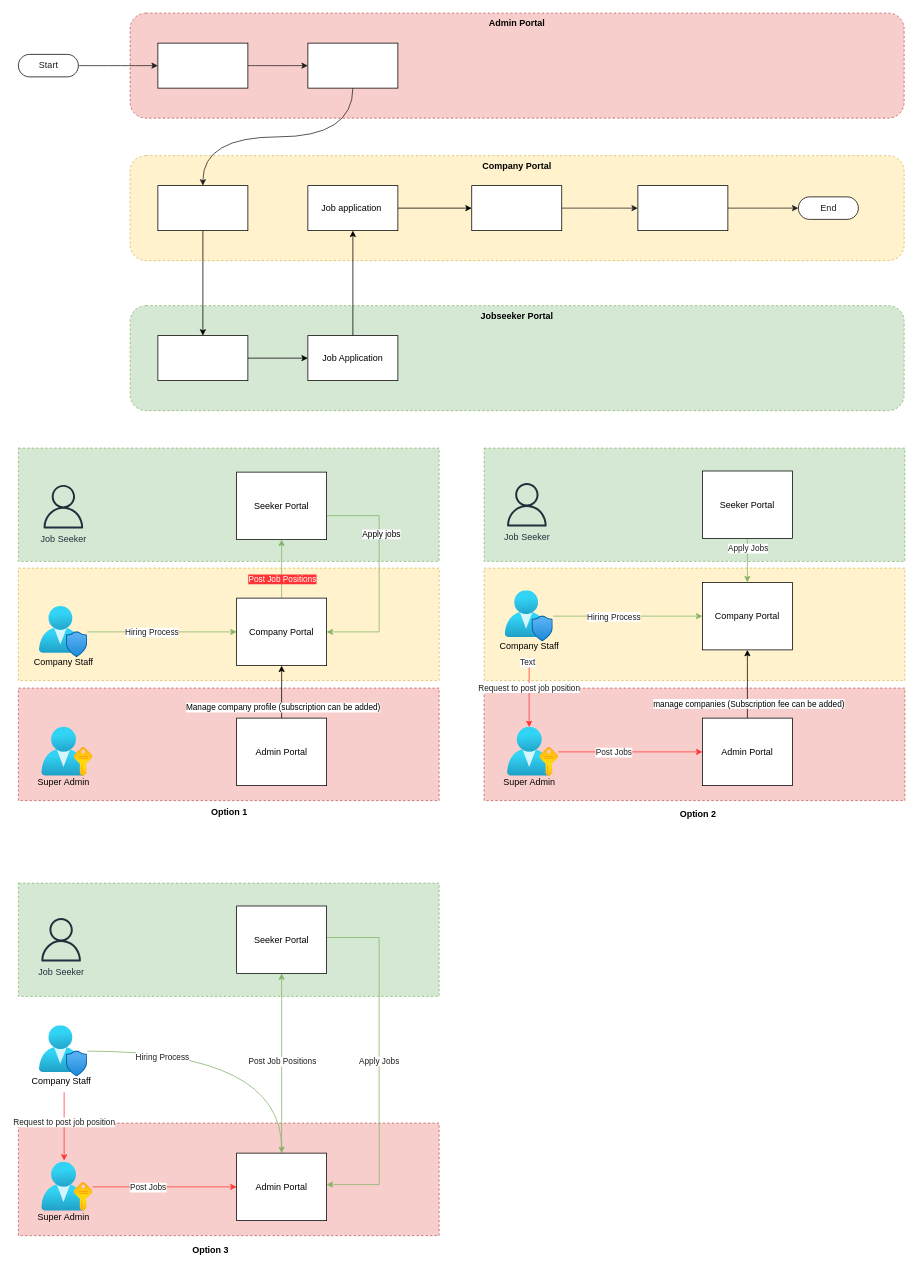
Image size: 918x1274. Some labels were removed from this diagram. Here are the shapes that lost their labels. From the top down, the centre of each, then its label:
At [202,65]: "Manage companies".
At [352,65]: "Registered Company".
At [202,208]: "Requisition".
At [516,208]: "Interview Session".
At [682,208]: "Offering".
At [202,358]: "Job Listing".
